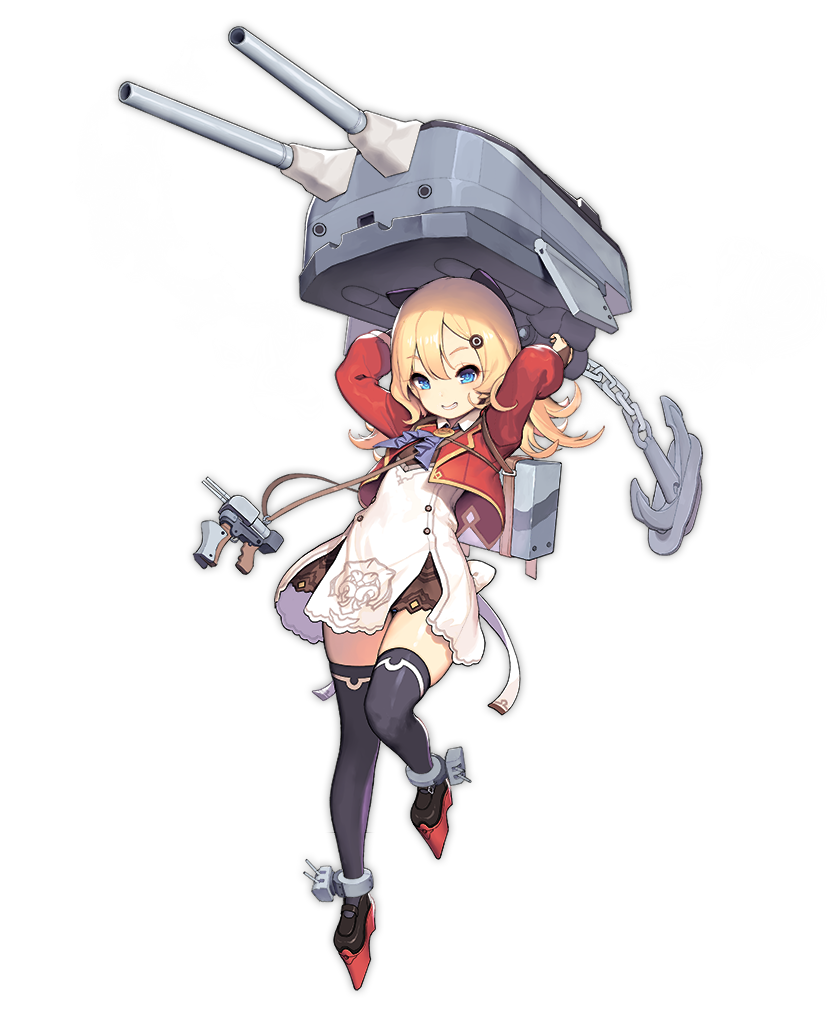person: (233, 254, 618, 837)
